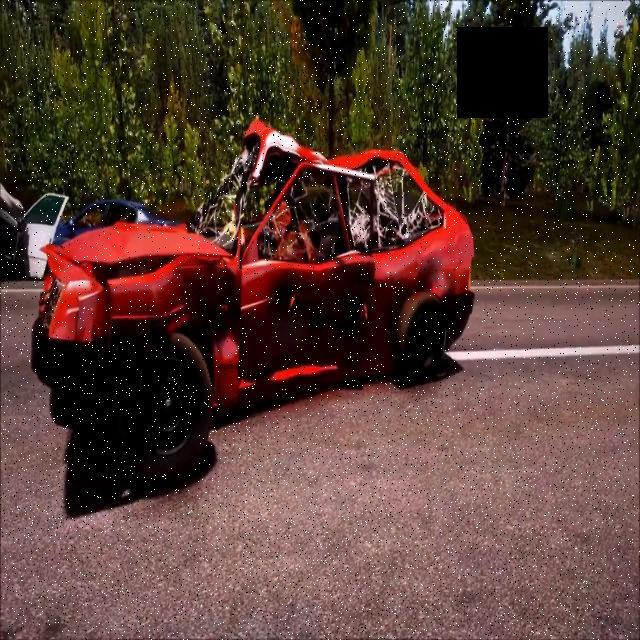severe: (26, 106, 478, 488)
